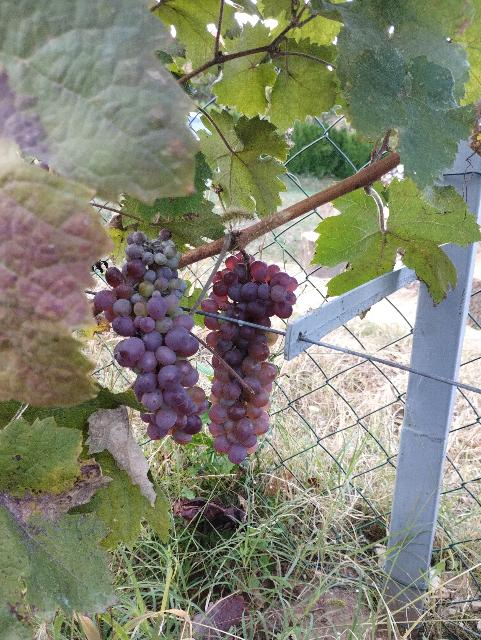grapes: (94, 229, 209, 445), (205, 316, 279, 464), (201, 252, 299, 328)
